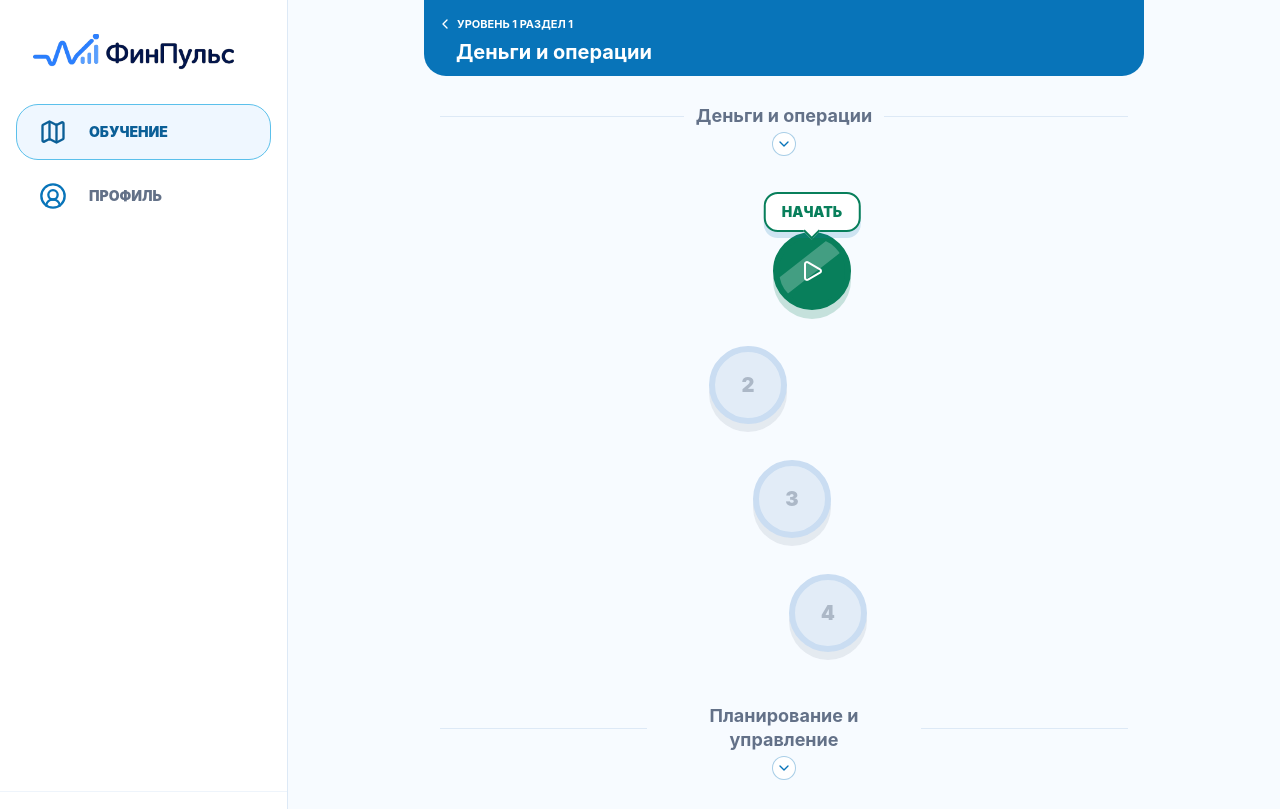
Scenario: App › renders the compact production level path header
Click the button named "Раскрыть описание раздела Деньги и операции" at (784,144), box [772, 132, 796, 156]
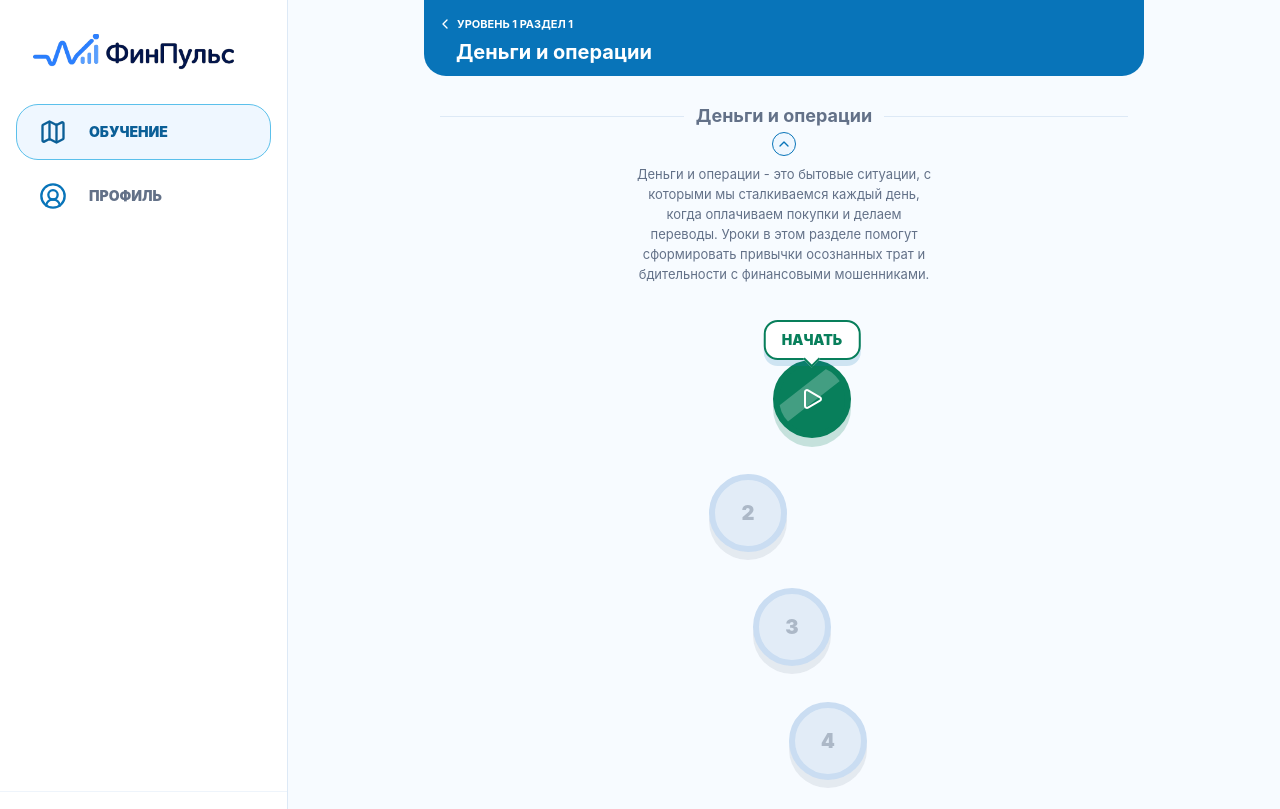
expect the button named "Раскрыть описание раздела Деньги и операции" is expanded: met, box [772, 132, 796, 156]
Click the button with aria-label "Куда уходят деньги" at (812,379), box [754, 312, 870, 446]
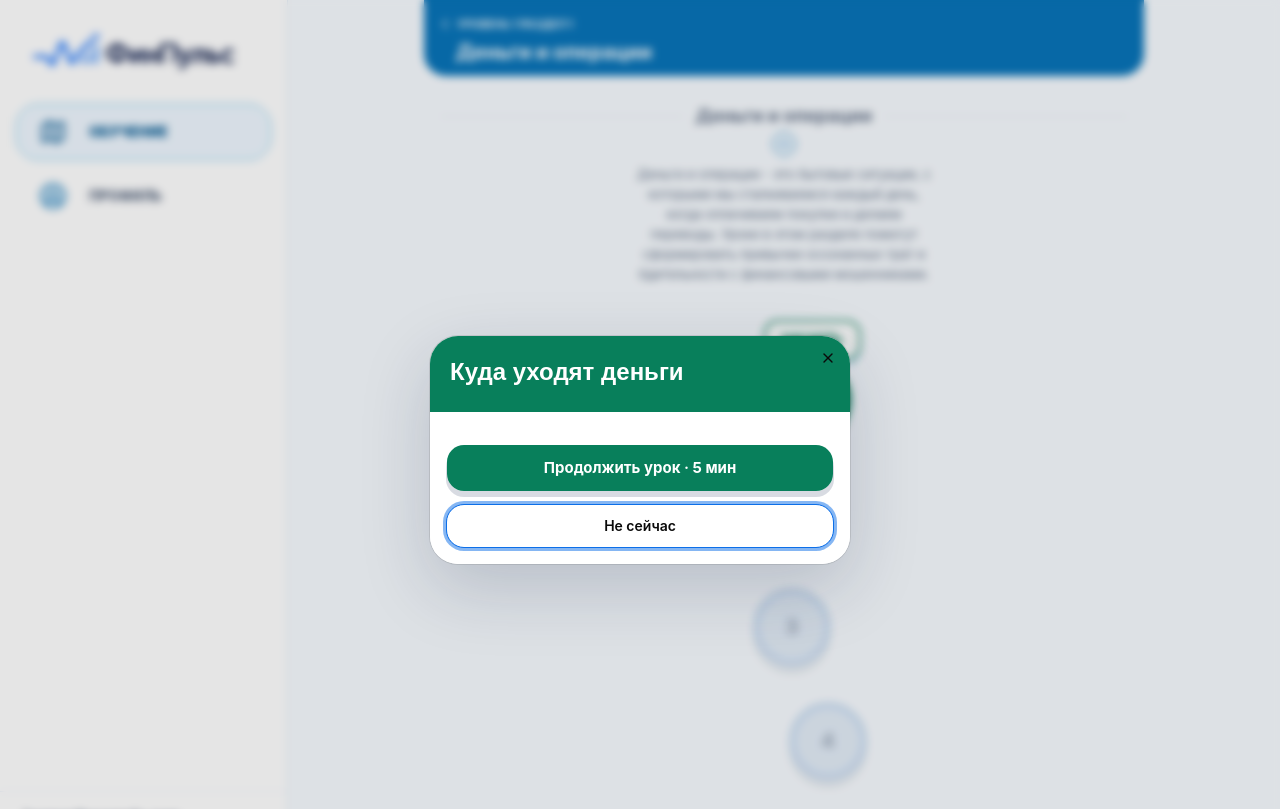
expect the heading "Куда уходят деньги" is shown: met, box [450, 358, 684, 385]
